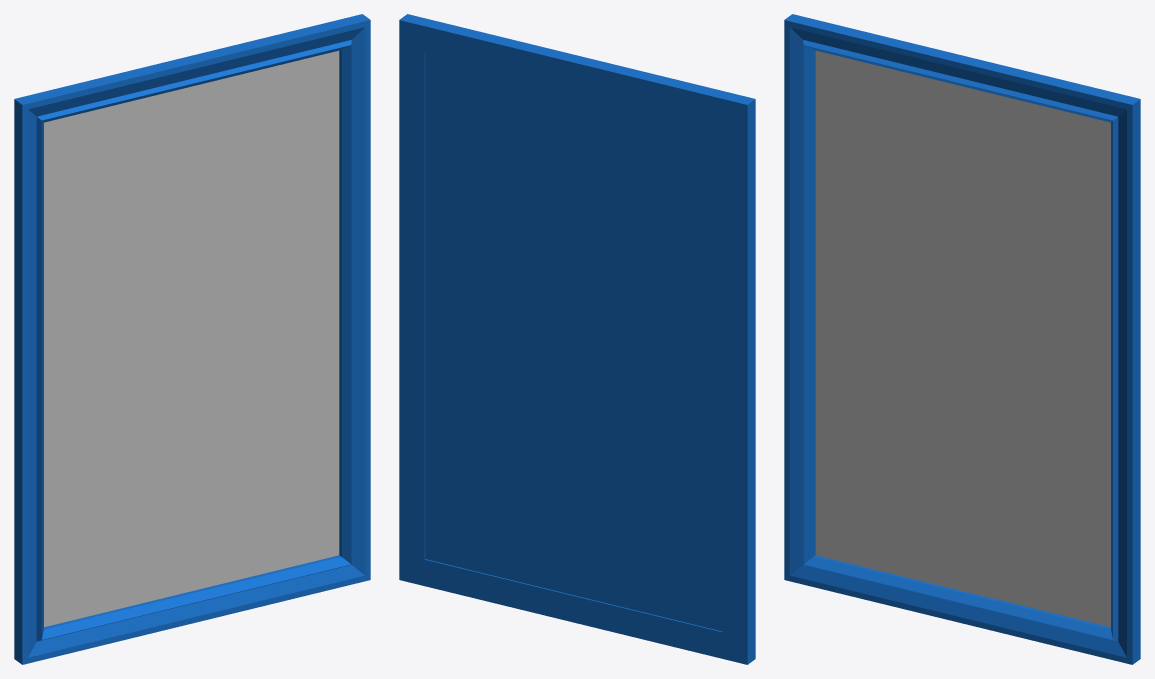
File: SM_modern_painting2.fbx
The picture shows the model from 3 angles, left to right: view 1: azimuth 30°, elevation 25°; view 2: azimuth 150°, elevation 25°; view 3: azimuth 330°, elevation 25°; orthographic projection.
Visible parts, largest first — view 1: modern_painting2; view 2: modern_painting2; view 3: modern_painting2.
Boxes of the visible parts, box(x1,y1,x2,y2) form: modern_painting2: box(14, 14, 370, 664); modern_painting2: box(399, 14, 755, 664); modern_painting2: box(784, 14, 1140, 664).
Size of the model in its own units: 87.06 by 134 by 3.56.
